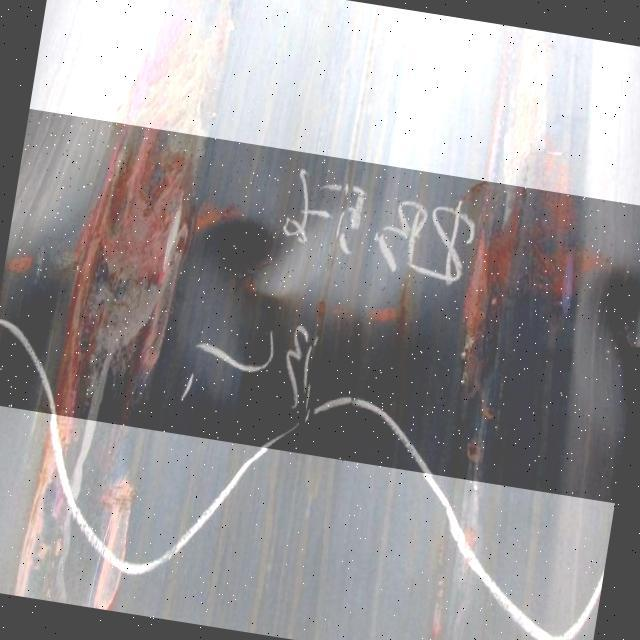Dent: (0, 109, 640, 505)
